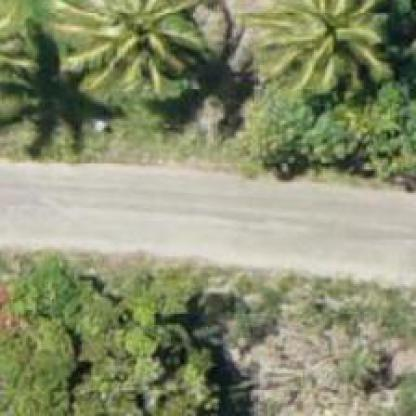coconut tree: (236, 0, 396, 100), (64, 0, 212, 93)
